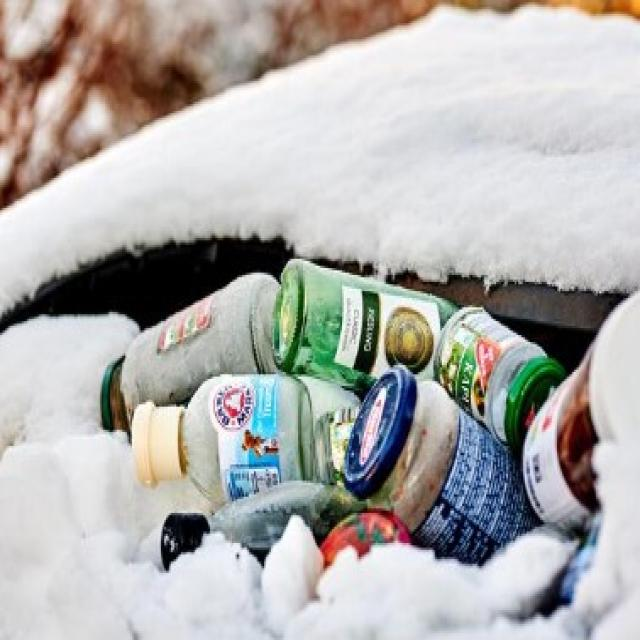electronic: (105, 255, 640, 582)
